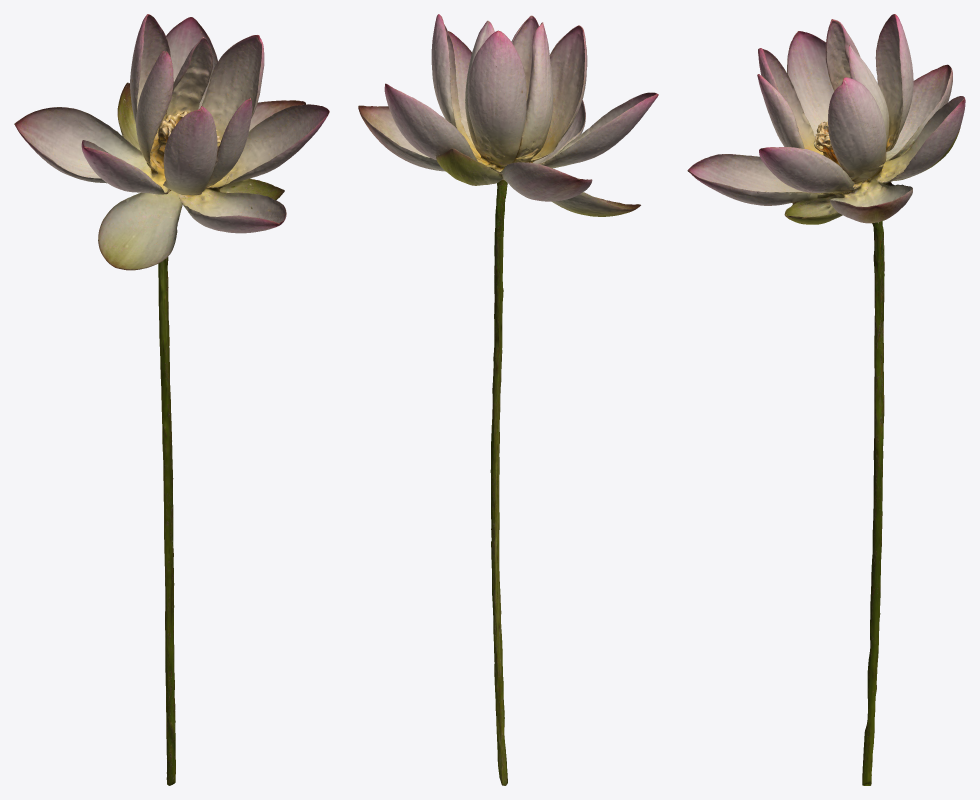
Rendered from lotus.glb.
3 views of the same model, side by side, from view 1: azimuth 30°, elevation 25°; view 2: azimuth 150°, elevation 25°; view 3: azimuth 270°, elevation 25° (orthographic).
Visible parts, largest first — view 1: Object_6, Object_12; view 2: Object_6, Object_12; view 3: Object_6, Object_12.
Part boxes in pixels (x1,y1,x2,y2): Object_6: (14, 14, 329, 784); Object_12: (14, 14, 329, 785); Object_6: (358, 14, 658, 785); Object_12: (358, 14, 658, 785); Object_6: (688, 14, 965, 785); Object_12: (687, 14, 965, 783).
Bounding box in the file's own units: 0.3571 × 1 × 0.3281.
Materials: 2 (2 with a texture image).
